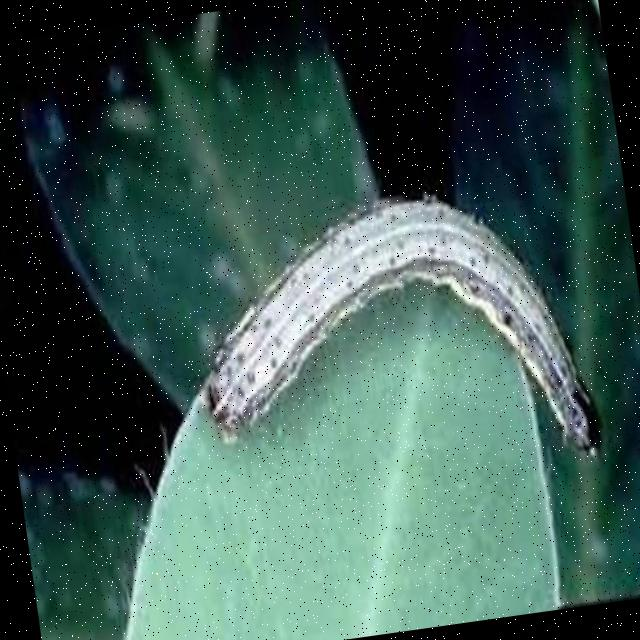worm: (181, 170, 611, 513)
